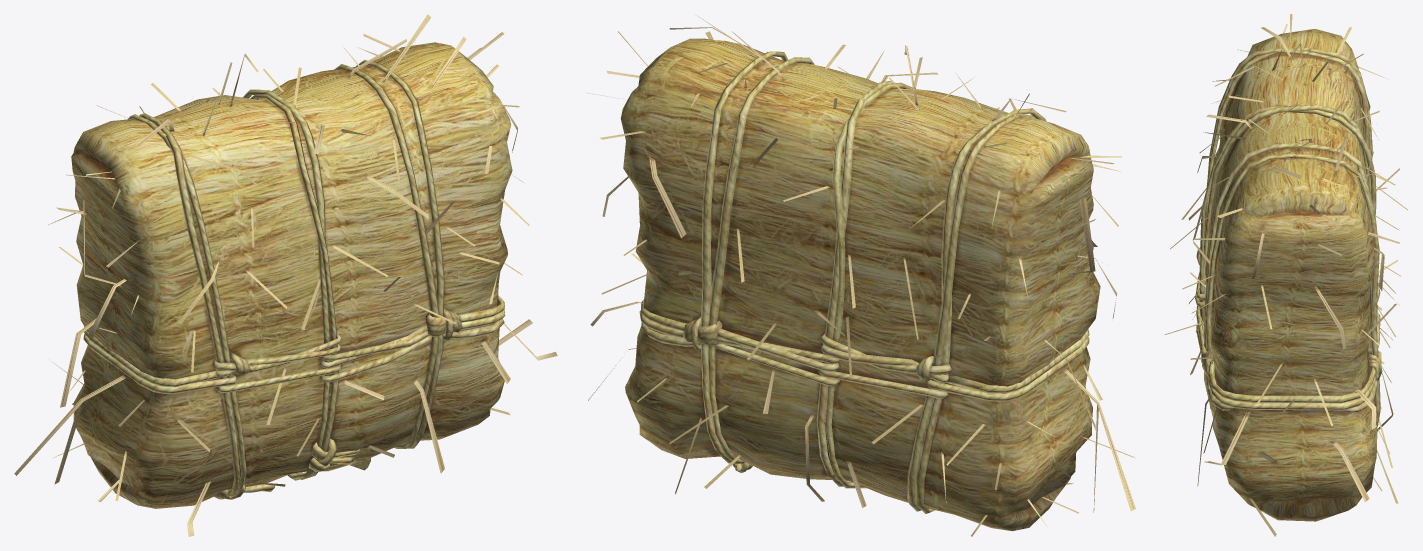
File: sack.glb
3 renders of one model, left to right at view 1: azimuth 30°, elevation 25°; view 2: azimuth 150°, elevation 25°; view 3: azimuth 270°, elevation 25°, orthographic. The views are drawn at different scales.
Visible parts, largest first — view 1: Bag.001_M_Bag_0.177, Bag.001_M_Bag_0.005, Bag.001_M_Bag_0.007, Bag.001_M_Bag_0.011, Bag.001_M_Bag_0.003, Bag.001_M_Bag_0.009, Bag.001_M_Bag_0.001, Bag.001_M_Bag_0.025, Bag.001_M_Bag_0.015, Bag.001_M_Bag_0.012, Bag.001_M_Bag_0.019, Bag.001_M_Bag_0.006 (+6 smaller); view 2: Bag.001_M_Bag_0.177, Bag.001_M_Bag_0.005, Bag.001_M_Bag_0.011, Bag.001_M_Bag_0.001, Bag.001_M_Bag_0.007, Bag.001_M_Bag_0.009, Bag.001_M_Bag_0.003, Bag.001_M_Bag_0.025, Bag.001_M_Bag_0.015, Bag.001_M_Bag_0.006, Bag.001_M_Bag_0.021, Bag.001_M_Bag_0.014 (+9 smaller); view 3: Bag.001_M_Bag_0.177, Bag.001_M_Bag_0.011, Bag.001_M_Bag_0.009, Bag.001_M_Bag_0.005, Bag.001_M_Bag_0.003, Bag.001_M_Bag_0.018, Bag.001_M_Bag_0.007, Bag.001_M_Bag_0.001, Bag.001_M_Bag_0.026, Bag.001_M_Bag_0.103, Bag.001_M_Bag_0.104.
Part boxes in pixels (bbox=[...]): Bag.001_M_Bag_0.177: bbox=[71, 42, 512, 508]; Bag.001_M_Bag_0.005: bbox=[334, 64, 439, 317]; Bag.001_M_Bag_0.007: bbox=[139, 113, 227, 385]; Bag.001_M_Bag_0.011: bbox=[355, 59, 444, 315]; Bag.001_M_Bag_0.003: bbox=[243, 89, 331, 362]; Bag.001_M_Bag_0.009: bbox=[250, 95, 337, 361]; Bag.001_M_Bag_0.001: bbox=[127, 114, 233, 377]; Bag.001_M_Bag_0.025: bbox=[83, 333, 237, 394]; Bag.001_M_Bag_0.015: bbox=[84, 326, 219, 387]; Bag.001_M_Bag_0.012: bbox=[215, 365, 341, 393]; Bag.001_M_Bag_0.019: bbox=[319, 335, 431, 382]; Bag.001_M_Bag_0.006: bbox=[221, 385, 240, 496]; Bag.001_M_Bag_0.177: bbox=[620, 38, 1100, 531]; Bag.001_M_Bag_0.005: bbox=[708, 57, 814, 325]; Bag.001_M_Bag_0.011: bbox=[701, 51, 788, 326]; Bag.001_M_Bag_0.001: bbox=[932, 113, 1034, 365]; Bag.001_M_Bag_0.007: bbox=[941, 108, 1046, 374]; Bag.001_M_Bag_0.009: bbox=[832, 82, 912, 342]; Bag.001_M_Bag_0.003: bbox=[823, 81, 897, 354]; Bag.001_M_Bag_0.025: bbox=[925, 337, 1089, 401]; Bag.001_M_Bag_0.015: bbox=[946, 329, 1089, 393]; Bag.001_M_Bag_0.006: bbox=[914, 382, 945, 513]; Bag.001_M_Bag_0.021: bbox=[717, 328, 839, 371]; Bag.001_M_Bag_0.014: bbox=[818, 370, 947, 398]; Bag.001_M_Bag_0.177: bbox=[1204, 29, 1377, 521]; Bag.001_M_Bag_0.011: bbox=[1205, 153, 1379, 357]; Bag.001_M_Bag_0.009: bbox=[1199, 106, 1376, 317]; Bag.001_M_Bag_0.005: bbox=[1204, 143, 1378, 350]; Bag.001_M_Bag_0.003: bbox=[1200, 104, 1371, 310]; Bag.001_M_Bag_0.018: bbox=[1208, 361, 1376, 403]; Bag.001_M_Bag_0.007: bbox=[1207, 48, 1369, 193]; Bag.001_M_Bag_0.001: bbox=[1204, 48, 1372, 232]; Bag.001_M_Bag_0.026: bbox=[1208, 372, 1376, 410]; Bag.001_M_Bag_0.103: bbox=[1332, 442, 1369, 501]; Bag.001_M_Bag_0.104: bbox=[1204, 411, 1250, 464].
Bounding box in the file's own units: 1.14 × 0.934 × 0.5229.
Materials: 1 (1 with a texture image).
